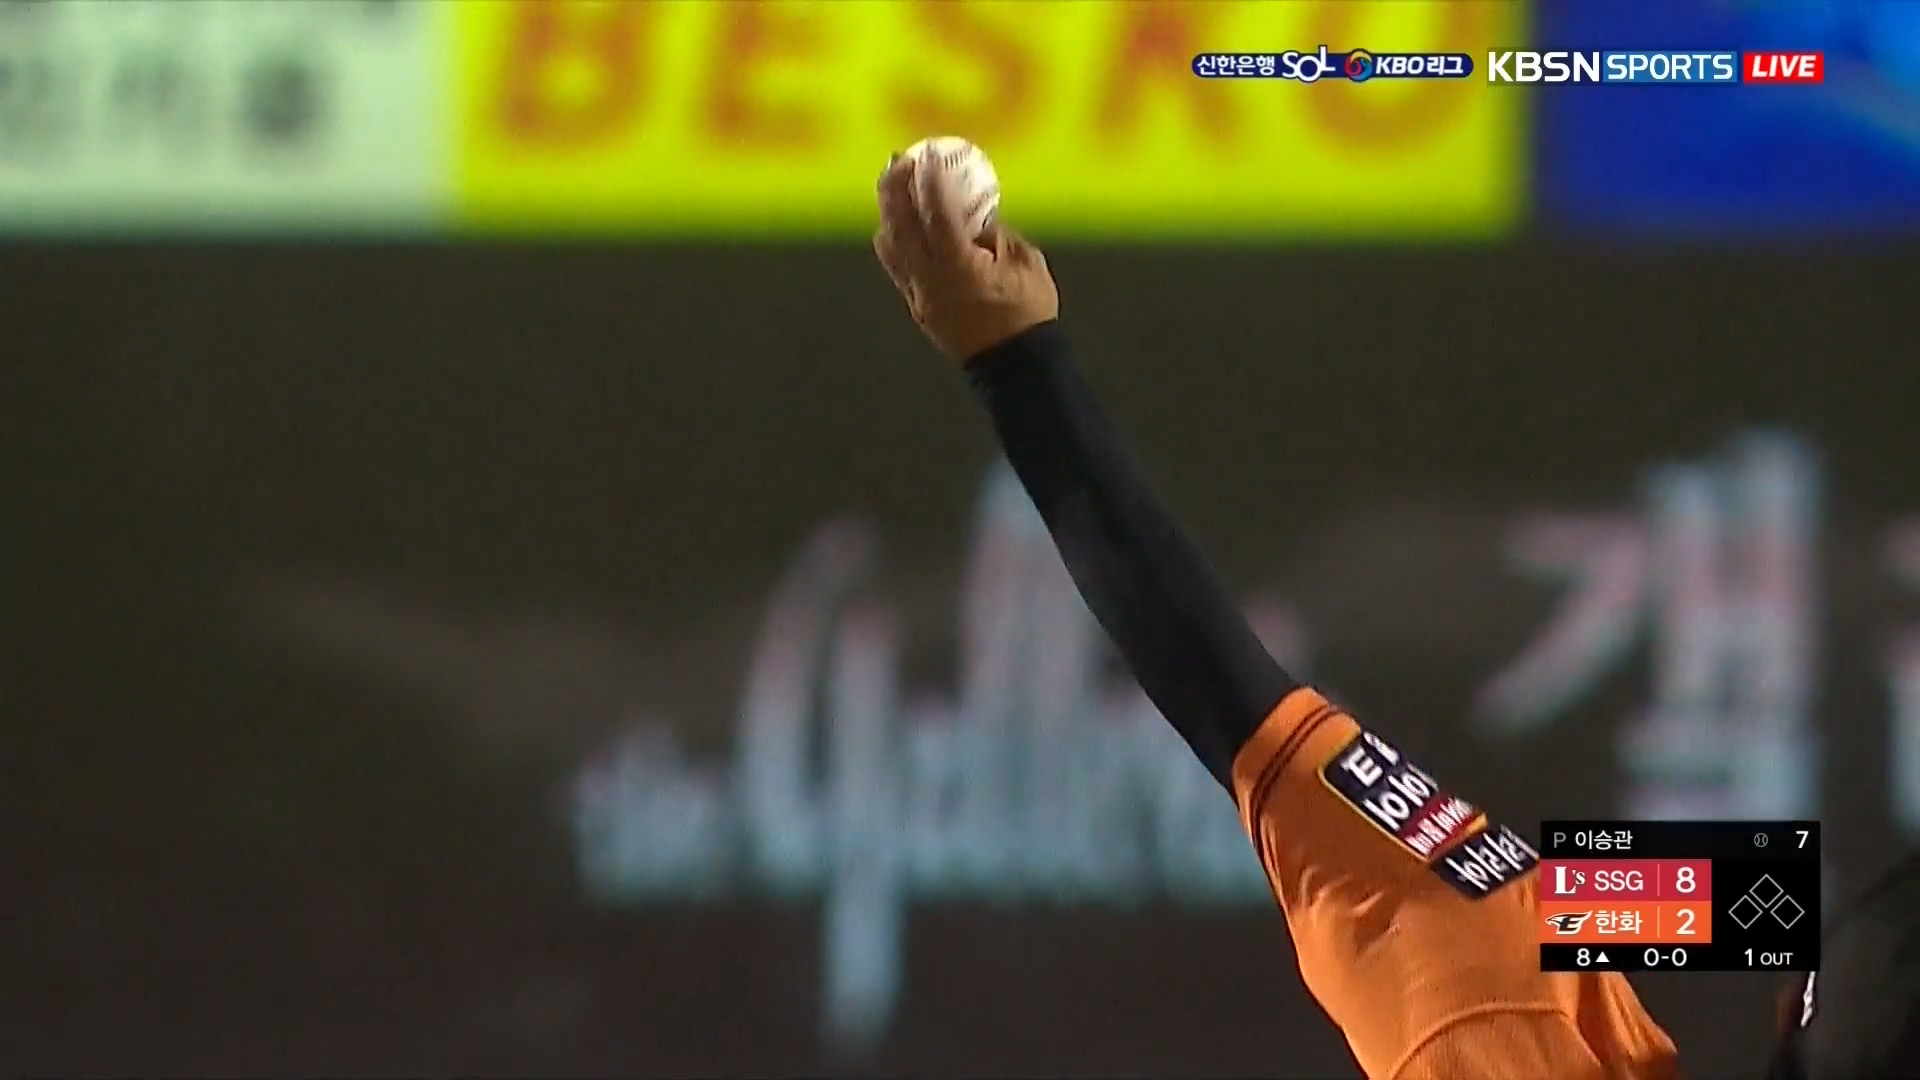zoomin_hand: (847, 125, 1286, 789)
